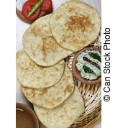poori: (22, 16, 74, 64), (21, 64, 75, 108), (52, 1, 101, 47), (34, 84, 84, 126), (16, 49, 64, 87)
